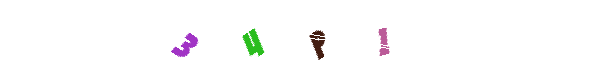1: (278, 0, 358, 80)
3: (213, 0, 293, 80)
4: (226, 0, 306, 80)
P: (255, 0, 335, 80)
